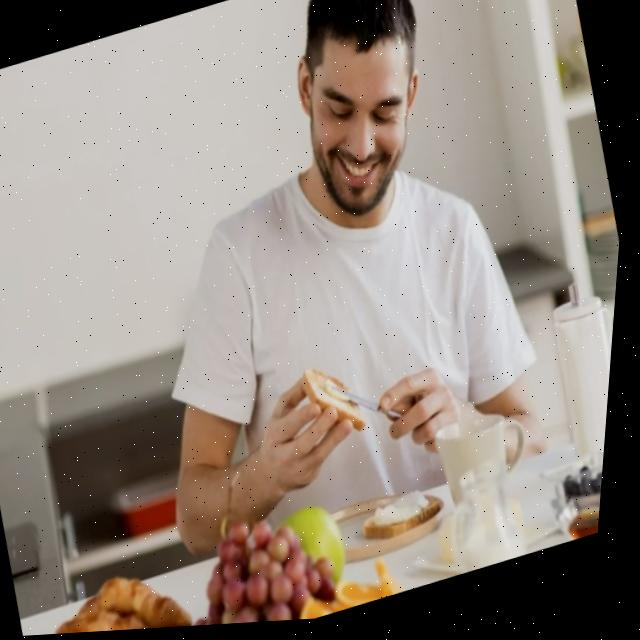eating-person: (29, 0, 620, 637)
